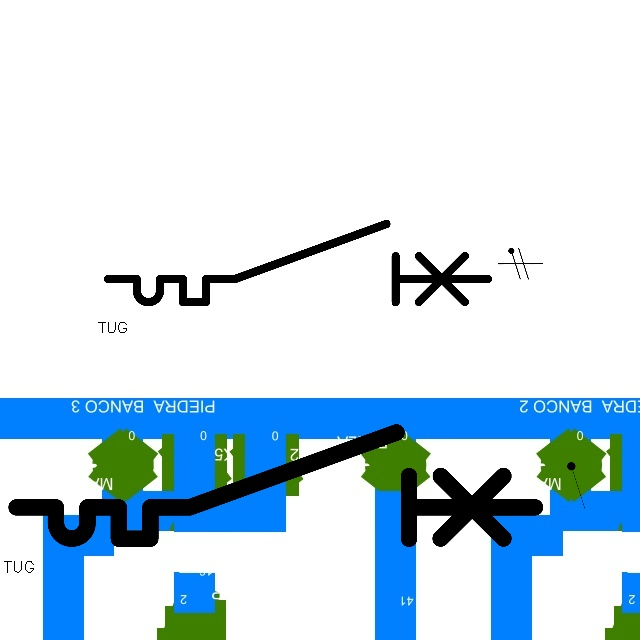interruptor_termomagnetico: (3, 419, 548, 552), (98, 214, 498, 312)
